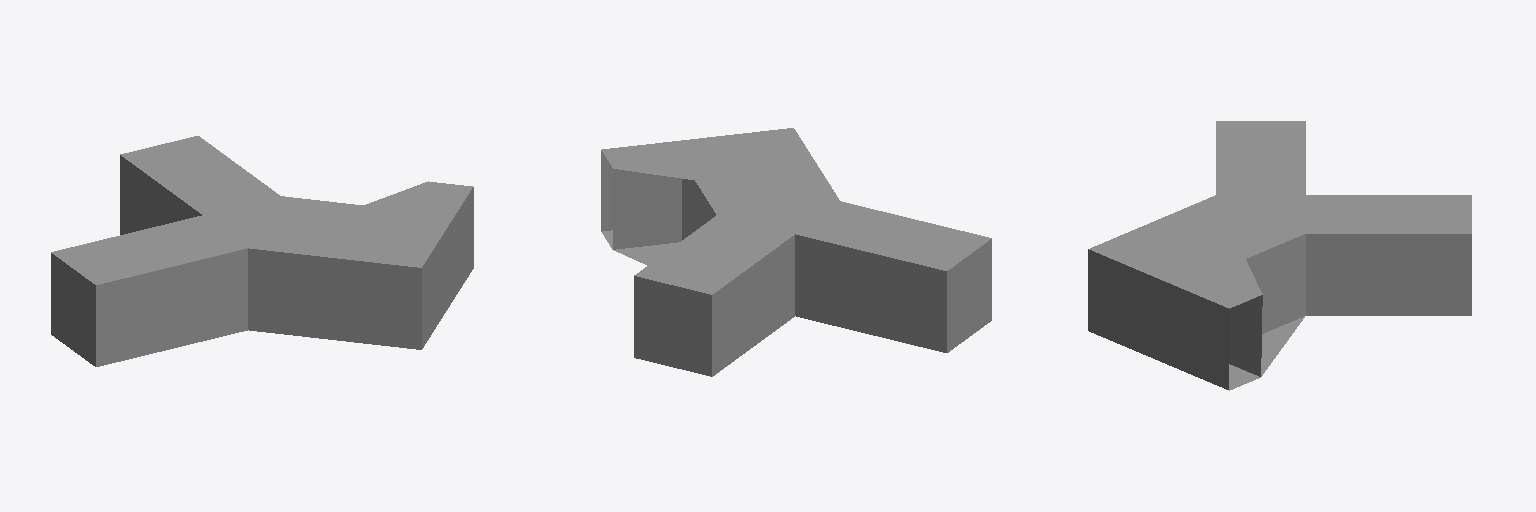
The model's file is into2.obj.
3 renders of one model, left to right at view 1: azimuth 30°, elevation 25°; view 2: azimuth 150°, elevation 25°; view 3: azimuth 270°, elevation 25°, orthographic.
Visible parts, largest first — view 1: Cube; view 2: Cube; view 3: Cube.
Boxes of the visible parts, box(x1,y1,x2,y2) form: Cube: box(51, 136, 473, 366); Cube: box(601, 128, 991, 376); Cube: box(1088, 121, 1471, 390).
Size of the model in its own units: 9.81 by 2 by 8.47.